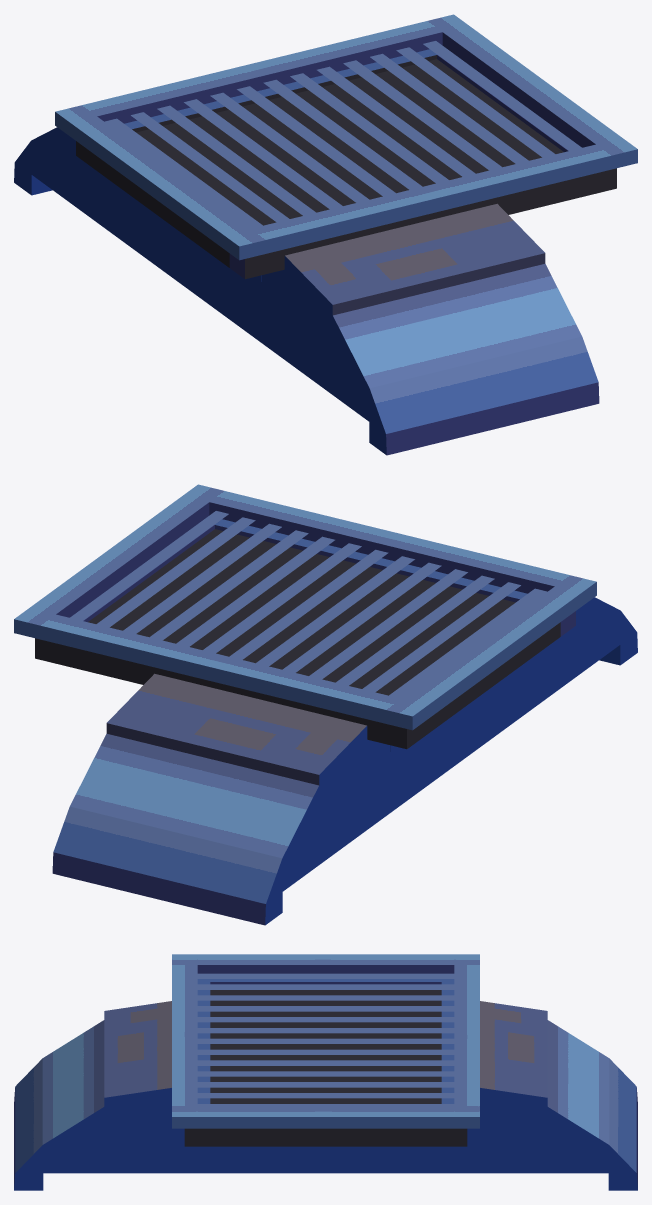
The model's file is df21_radiator_fan.obj.
The picture shows the model from 3 angles, top to bottom: view 1: azimuth 30°, elevation 25°; view 2: azimuth 150°, elevation 25°; view 3: azimuth 270°, elevation 25°; orthographic projection. The views are drawn at different scales.
Parts seen in each view (by area): view 1: cuboid_selection_selection_selection_selection_selection__part_1, cube__part_1689, cube__part_1754, cube__part_1767, cube__part_1780, cube__part_1741, cube__part_1676, cube__part_1702, cube__part_1728, cube__part_1806, cube__part_1884, cube__part_1832 (+11 smaller); view 2: cuboid_selection_selection_selection_selection_selection__part_1, cube__part_1689, cube__part_1767, cube__part_1754, cube__part_1780, cube__part_1741, cube__part_1702, cube__part_1676, cube__part_1728, cube__part_1806, cube__part_1884, cube__part_1832 (+11 smaller); view 3: cuboid_selection_selection_selection_selection_selection__part_1, cube__part_1689, cube__part_1741, cube__part_1780, cube__part_1754, cube__part_1767, cube__part_1715, cube__part_1806, cube__part_1819, cube__part_1832, cube__part_1910, cube__part_1923 (+11 smaller).
Boxes of the visible parts, box(x1,y1,x2,y2) form: cuboid_selection_selection_selection_selection_selection__part_1: box(14, 127, 599, 455); cube__part_1689: box(136, 59, 563, 225); cube__part_1754: box(224, 138, 637, 260); cube__part_1767: box(55, 14, 468, 136); cube__part_1780: box(70, 116, 249, 248); cube__part_1741: box(442, 26, 621, 147); cube__part_1676: box(229, 168, 616, 279); cube__part_1702: box(76, 49, 436, 166); cube__part_1728: box(91, 152, 229, 267); cube__part_1806: box(131, 112, 289, 222); cube__part_1884: box(210, 92, 369, 202); cube__part_1832: box(157, 105, 315, 215); cuboid_selection_selection_selection_selection_selection__part_1: box(52, 597, 637, 925); cube__part_1689: box(88, 529, 515, 695); cube__part_1767: box(14, 608, 427, 730); cube__part_1754: box(183, 484, 596, 606); cube__part_1780: box(402, 586, 581, 718); cube__part_1741: box(30, 496, 209, 617); cube__part_1702: box(35, 638, 422, 749); cube__part_1676: box(215, 519, 575, 636); cube__part_1728: box(422, 622, 560, 737); cube__part_1806: box(362, 582, 520, 692); cube__part_1884: box(282, 562, 441, 672); cube__part_1832: box(336, 575, 494, 685); cuboid_selection_selection_selection_selection_selection__part_1: box(14, 1001, 637, 1190); cube__part_1689: box(210, 990, 441, 1103); cube__part_1741: box(197, 1106, 454, 1128); cube__part_1780: box(197, 954, 454, 973); cube__part_1754: box(172, 954, 197, 1128); cube__part_1767: box(454, 954, 479, 1128); cube__part_1715: box(198, 1128, 441, 1146); cube__part_1806: box(197, 984, 454, 989); cube__part_1819: box(197, 1006, 454, 1011); cube__part_1832: box(197, 995, 454, 1000); cube__part_1910: box(197, 1082, 454, 1087); cube__part_1923: box(197, 1071, 454, 1076).
Bounding box in the file's own units: 1.88 × 0.6875 × 3.04.
